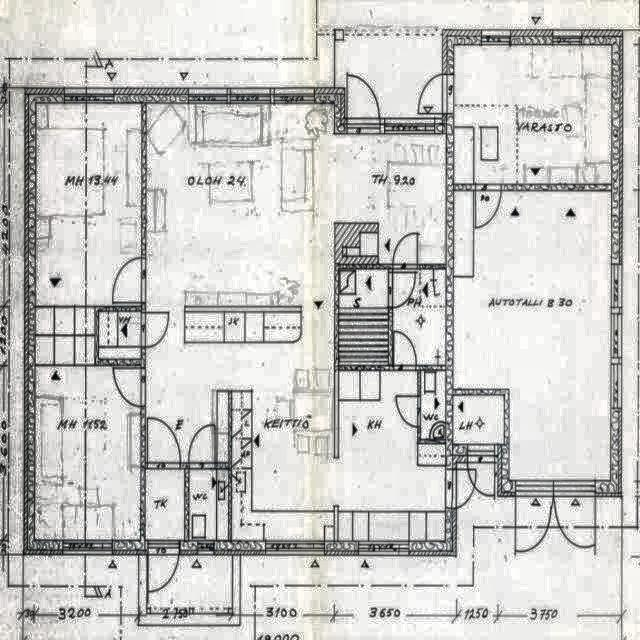room: (453, 191, 611, 480), (35, 102, 143, 307), (454, 45, 611, 185), (35, 365, 141, 541), (392, 269, 447, 366), (338, 269, 389, 366), (144, 469, 185, 542), (189, 469, 229, 541), (452, 394, 504, 445), (99, 312, 142, 358), (419, 371, 446, 441)
